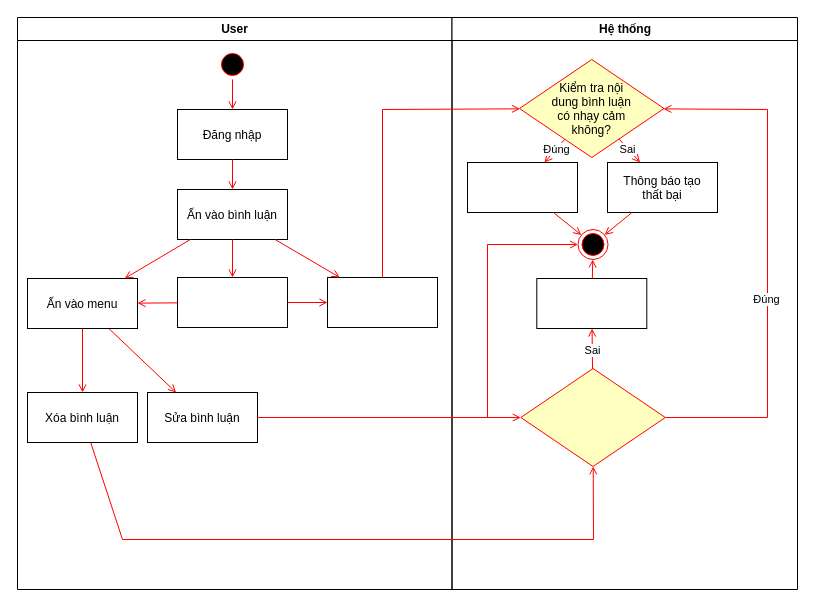
Some shapes in this 815 by 607 pixel diagram are drawn without their labels. Here are the shapes that lost their labels. From the top down, the centre of each, then its label:
the point at 522,187: Thống báo tạo thành công
the point at 232,302: Ấn vào phản hồi
the point at 382,302: Viết bình luận
the point at 591,303: Thống báo không có quyền thực hiện
the point at 592,417: Kiểm tra có phải của user không ?
